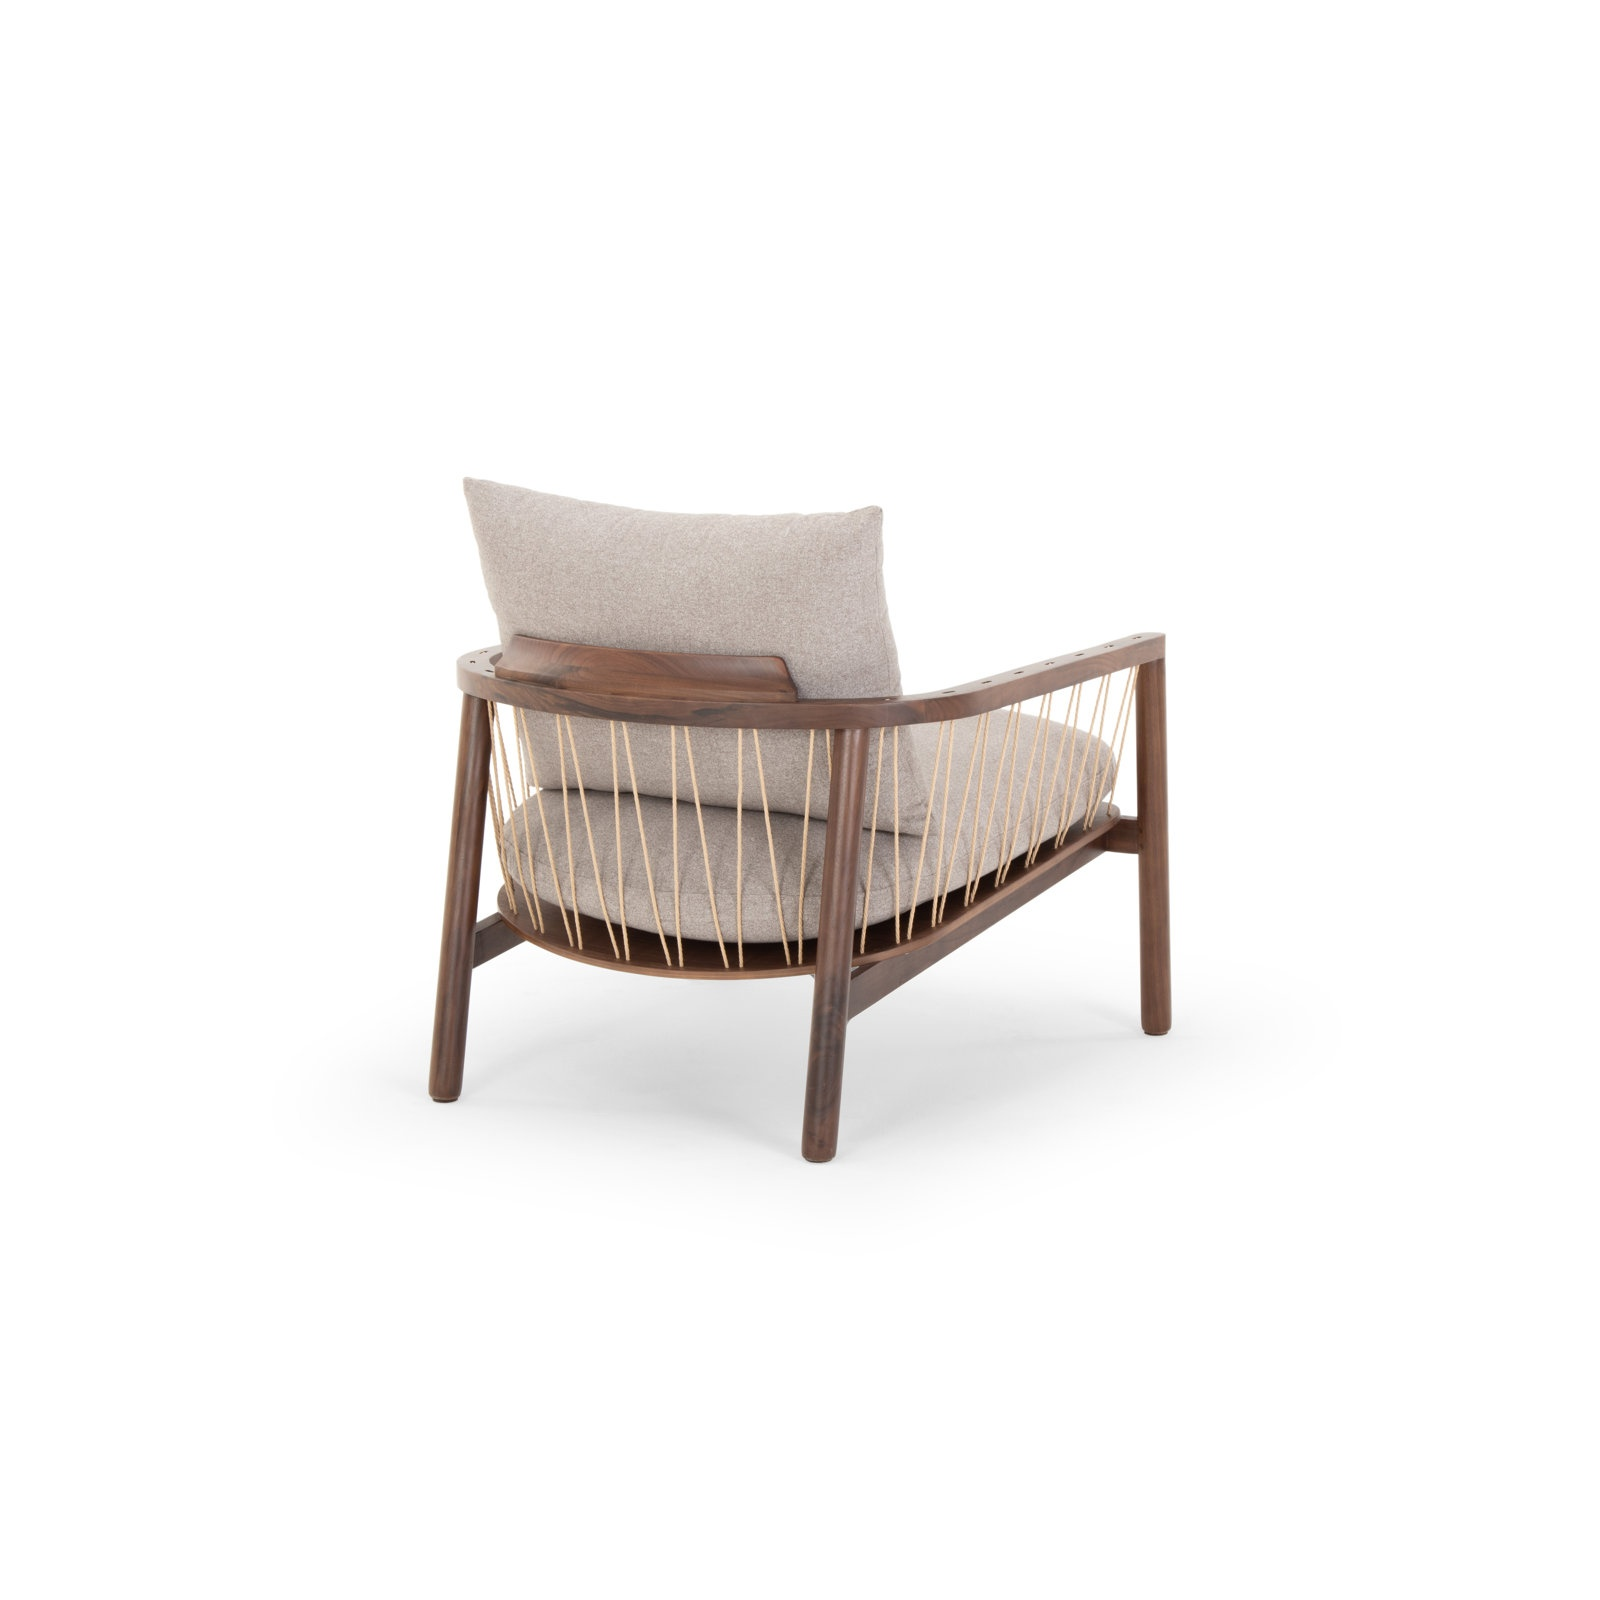obstacle: (429, 481, 1169, 1160)
